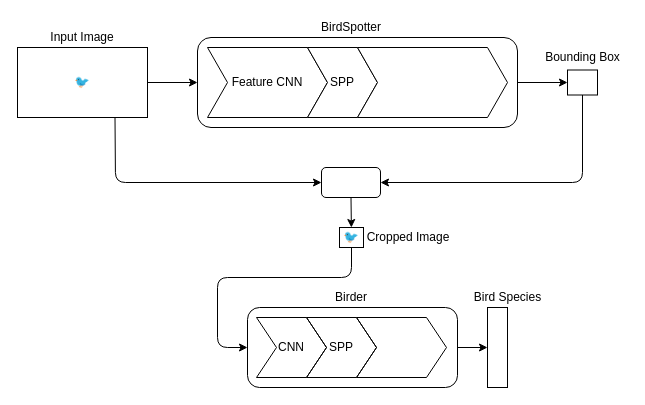
This 645x405 diagram has some shape labels left out. Here are the shapes that lost their labels. From the top down, the centre of each, then its label:
At point (432, 82): "Selective search BB".
At point (350, 182): "Crop".
At point (401, 347): "Classify".
